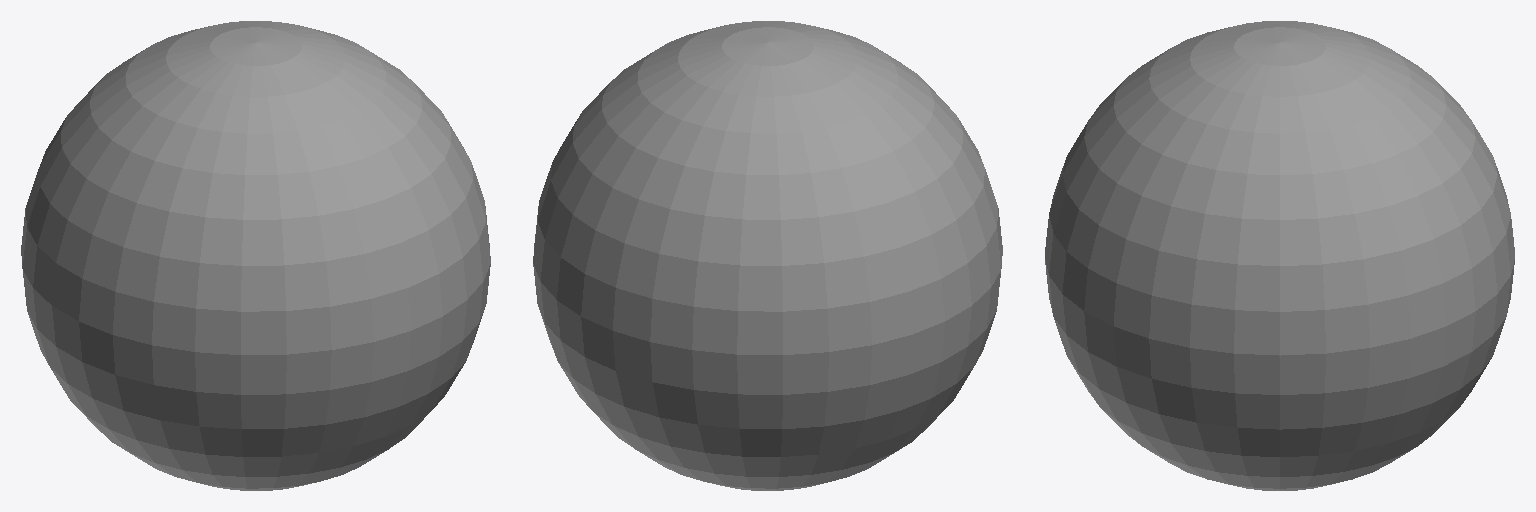
Rendered from yellowball.obj.
3 renders of one model, left to right at view 1: azimuth 30°, elevation 25°; view 2: azimuth 150°, elevation 25°; view 3: azimuth 270°, elevation 25°, orthographic.
Parts seen in each view (by area): view 1: Sphere; view 2: Sphere; view 3: Sphere.
Boxes of the visible parts, x1=… form: Sphere: x1=21, y1=21, x2=490, y2=490; Sphere: x1=533, y1=21, x2=1002, y2=490; Sphere: x1=1045, y1=21, x2=1514, y2=490.
Bounding box in the file's own units: 2 × 2 × 2.